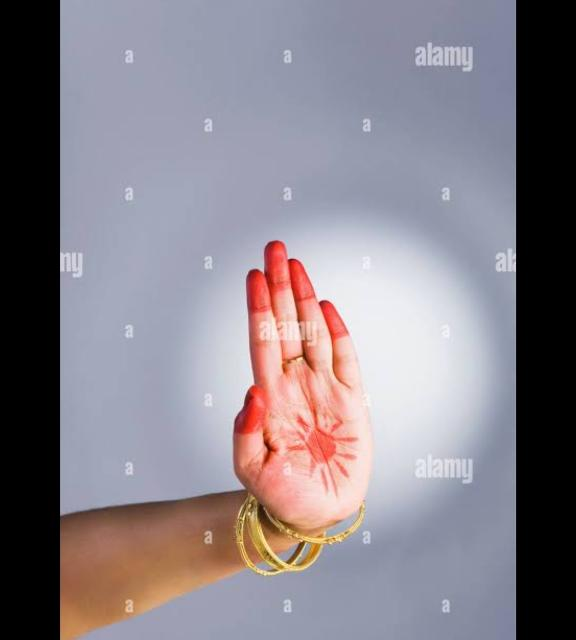pataka: (233, 241, 375, 573)
